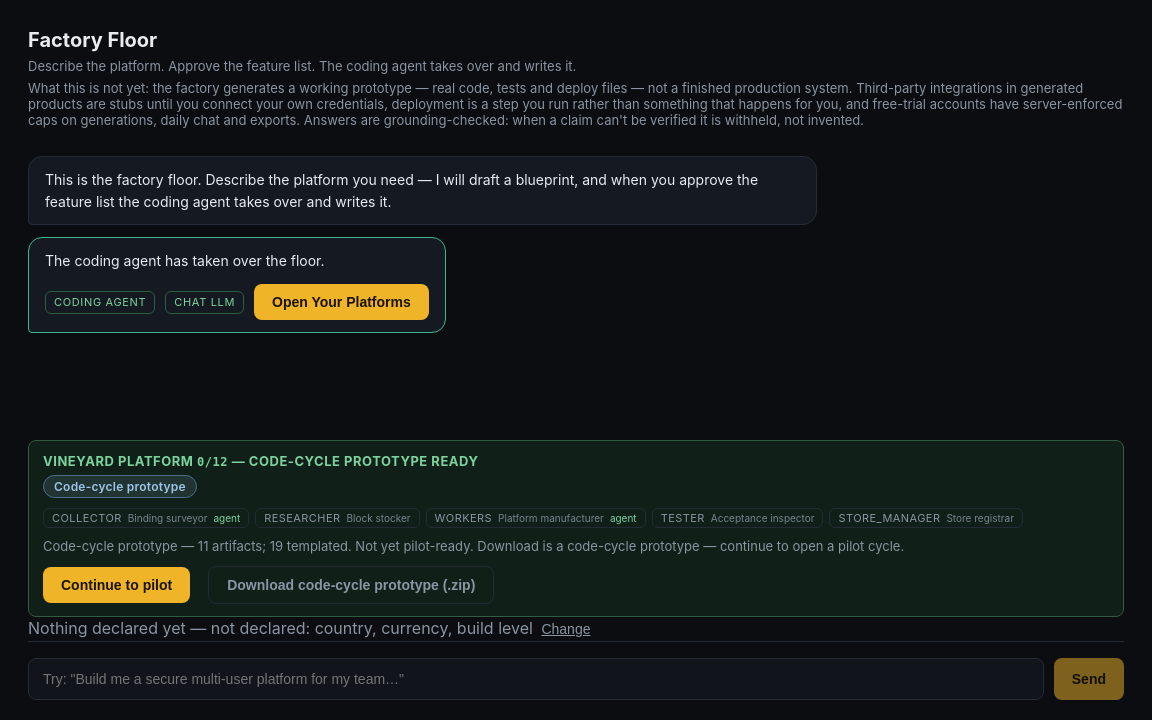
it: Factory Floor — architect LLM then coding agent › replaces FINISHED with TAKEN OVER when a pilot generation event arrives
The image size is (1152, 720).
Expected: the heading "Vineyard Platform 0/12 — Code-cycle prototype ready" is shown, [43,453,478,469]
Type "(a) continue the existing lettings hub into its pilot cycle" into the field with placeholder "Try: \"Build me a secure multi-user platform for my team…\"". click: (536, 679)
box: [28,658,1044,700]
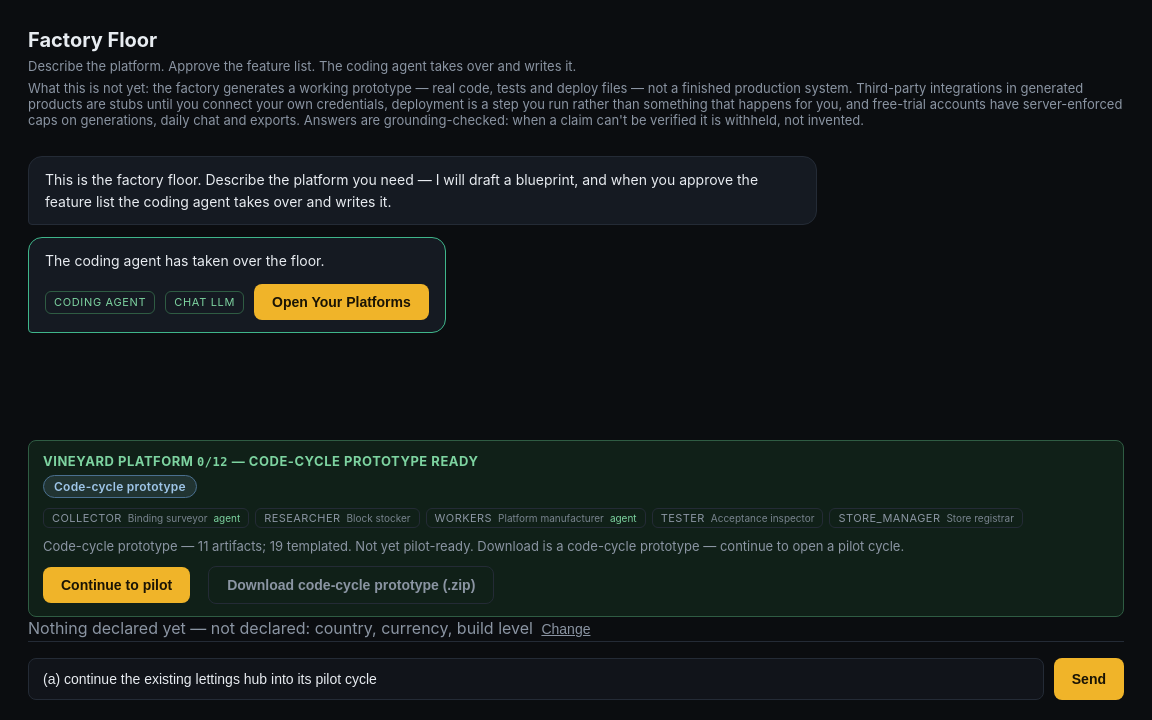
Click the button "Send". click: (1089, 679)
box: [1054,658,1124,700]
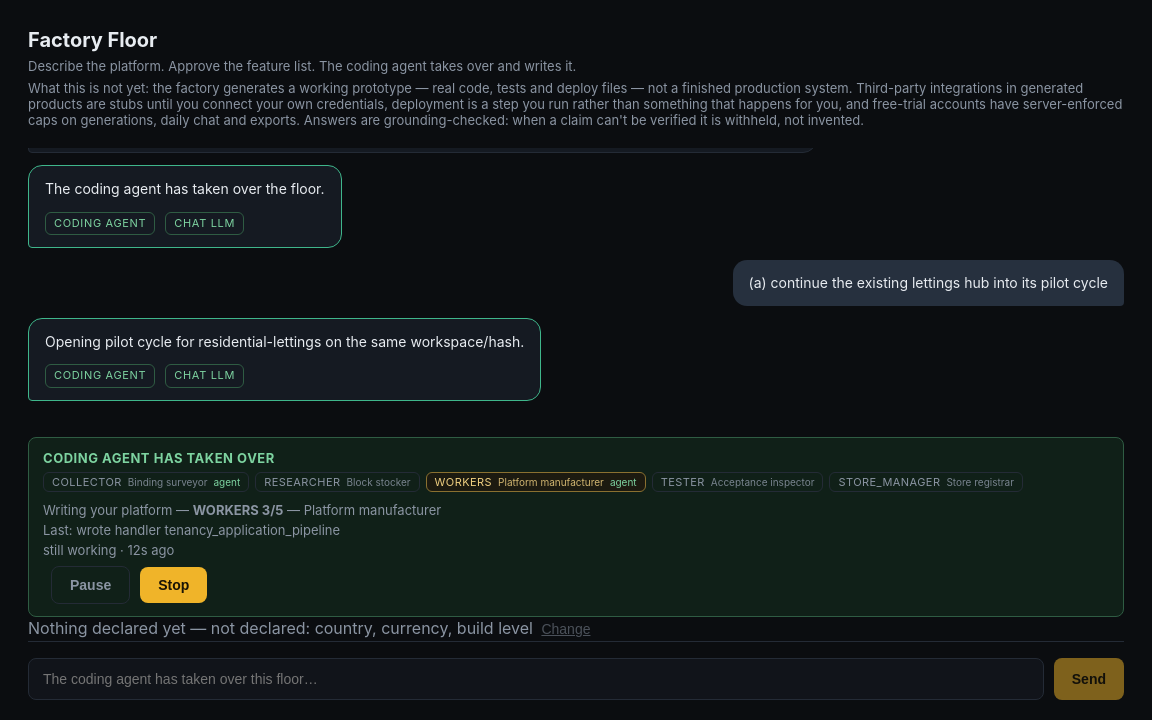
Now the heading "Coding agent has taken over" is shown, box [43,450,275,466]
Now the text "Writing your platform — WORKERS 3/5 — Platform manufacturer" is shown, box [43,502,441,518]
